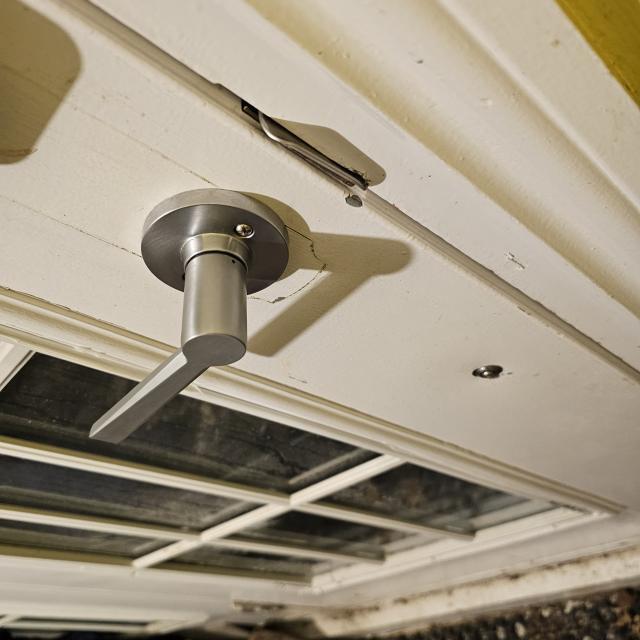door-handle: (90, 189, 289, 444)
